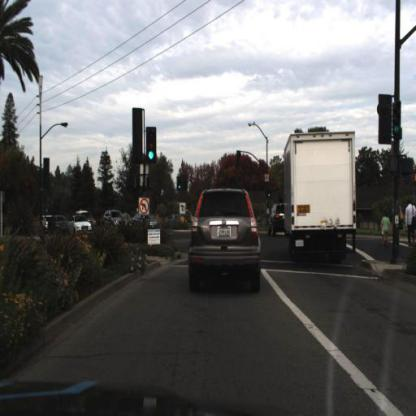car: (189, 188, 264, 292), (266, 199, 292, 241), (267, 201, 285, 238), (46, 212, 70, 238), (104, 209, 127, 230), (136, 211, 157, 233), (69, 216, 93, 232), (381, 211, 391, 248), (76, 210, 98, 226), (50, 217, 65, 233), (41, 217, 52, 231)
pedestrian: (403, 198, 416, 245), (395, 203, 403, 244)
trafficLight-Green: (148, 129, 156, 160), (175, 173, 185, 196), (177, 177, 184, 195), (267, 188, 274, 202)
truck: (283, 128, 358, 263)
